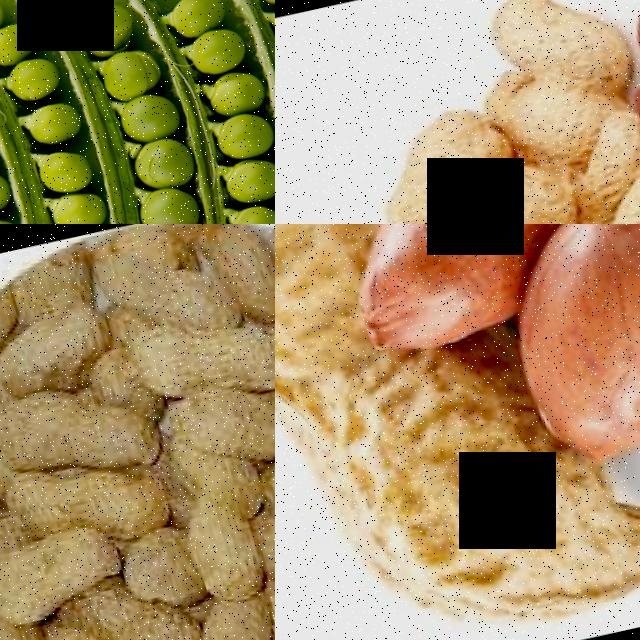peanuts: (277, 328, 590, 640), (483, 243, 640, 478), (156, 441, 275, 608), (0, 375, 160, 491), (0, 515, 127, 633), (347, 103, 469, 224), (128, 308, 275, 407), (472, 0, 627, 80), (447, 152, 577, 224), (621, 0, 640, 69), (620, 64, 640, 120)
peas: (53, 0, 244, 224), (0, 0, 154, 224), (147, 0, 275, 224), (0, 0, 73, 224)
